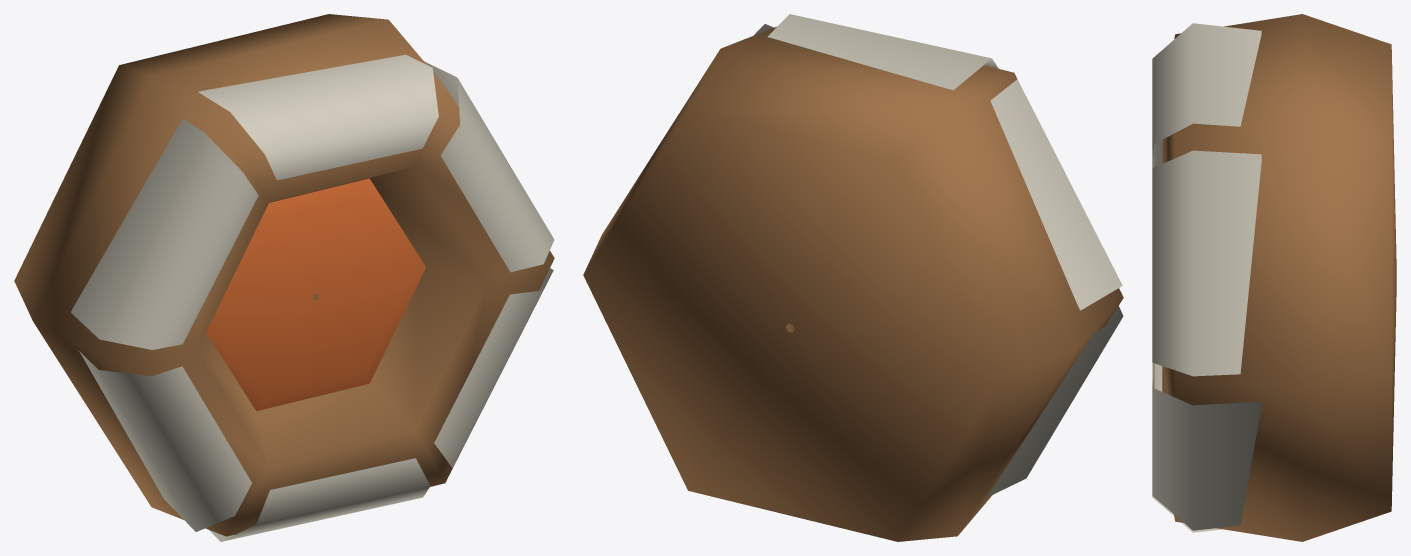
Rendered from boss_furnace.glb.
3 renders of one model, left to right at view 1: azimuth 30°, elevation 25°; view 2: azimuth 150°, elevation 25°; view 3: azimuth 270°, elevation 25°, orthographic. The views are drawn at different scales.
Visible parts, largest first — view 1: boss_furnace; view 2: boss_furnace; view 3: boss_furnace.
Part boxes in pixels (x1=…): boss_furnace: x1=14, y1=14, x2=554, y2=541; boss_furnace: x1=583, y1=14, x2=1123, y2=541; boss_furnace: x1=1152, y1=14, x2=1396, y2=541.
Size of the model in its own units: 2.08 by 1.81 by 0.96.
